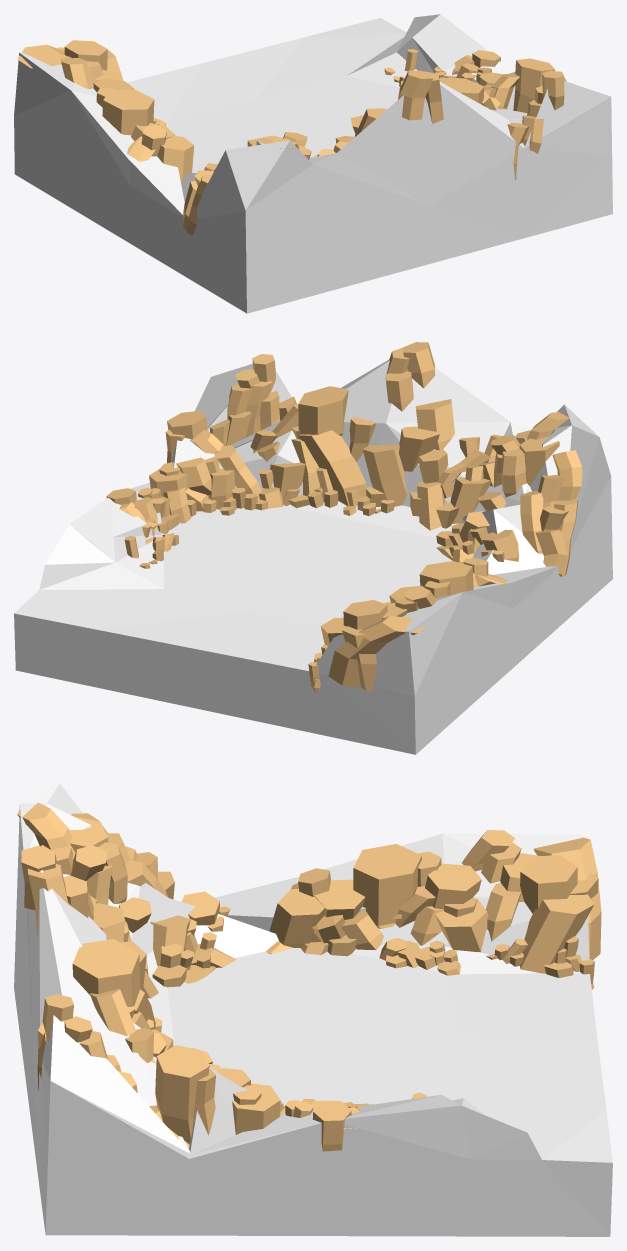
The model's file is empty_lev5.glb.
3 views of the same model, one above another, from view 1: azimuth 30°, elevation 25°; view 2: azimuth 150°, elevation 25°; view 3: azimuth 270°, elevation 25° (orthographic). The views are drawn at different scales.
Visible parts, largest first — view 1: group1586283693, group423818086, group6855632, group635469221, group818719132, group1798602863, group605995530, group270538316, group1110862186, group1899218596, group284376145, group1972280471 (+4 smaller); view 2: group1586283693, group1670661091, group1110862186, group109473454, group1899218596, group955683139, group1622696322, group140002579, group423818086, group1209576230, group283182389, group541698014 (+27 smaller); view 3: group1586283693, group423818086, group109473454, group6855632, group1041836491, group1899218596, group1798602863, group818719132, group1110862186, group137237167, group519686499, group1374248848 (+27 smaller).
Boxes of the visible parts, x1,y1,x2,y2 form: group1586283693: [14, 14, 612, 313]; group423818086: [102, 89, 154, 135]; group6855632: [513, 58, 554, 112]; group635469221: [399, 70, 433, 120]; group818719132: [157, 135, 194, 181]; group1798602863: [64, 40, 107, 70]; group605995530: [542, 70, 564, 109]; group270538316: [61, 58, 93, 89]; group1110862186: [17, 44, 66, 68]; group1899218596: [439, 77, 484, 104]; group284376145: [425, 71, 443, 123]; group1972280471: [522, 115, 543, 153]; group1586283693: [14, 351, 612, 754]; group1670661091: [298, 430, 366, 505]; group1110862186: [328, 616, 425, 687]; group109473454: [448, 511, 519, 562]; group1899218596: [298, 386, 348, 439]; group955683139: [363, 444, 406, 506]; group1622696322: [417, 482, 458, 530]; group140002579: [415, 399, 454, 449]; group423818086: [419, 561, 473, 594]; group1209576230: [399, 426, 439, 471]; group283182389: [552, 450, 582, 500]; group541698014: [450, 477, 490, 523]; group1586283693: [14, 783, 612, 1236]; group423818086: [353, 844, 421, 928]; group109473454: [150, 891, 229, 970]; group6855632: [155, 1045, 208, 1143]; group1041836491: [520, 894, 594, 973]; group1899218596: [72, 939, 140, 1017]; group1798602863: [520, 854, 577, 913]; group818719132: [269, 889, 324, 947]; group1110862186: [533, 837, 601, 959]; group137237167: [425, 863, 481, 909]; group519686499: [435, 899, 488, 951]; group1374248848: [232, 1083, 280, 1134].
Bounding box in the file's own units: 205 × 99.59 × 200.
